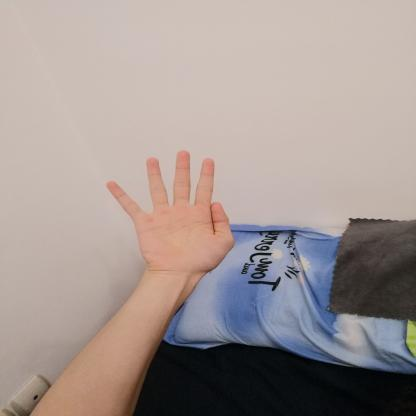SHEEN: (95, 146, 246, 284)
